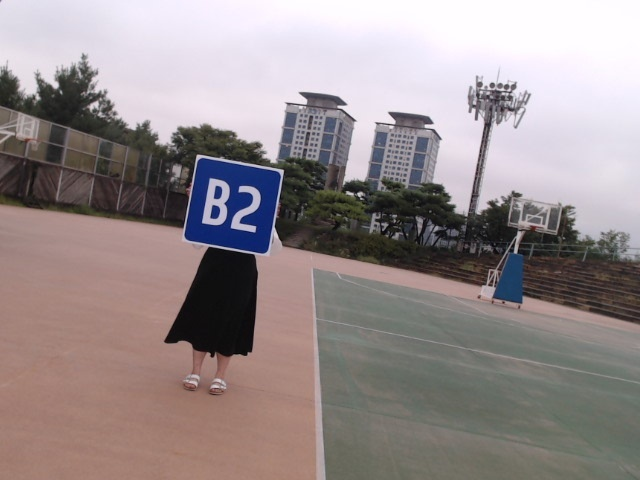delivery_b2: (183, 157, 283, 255)
